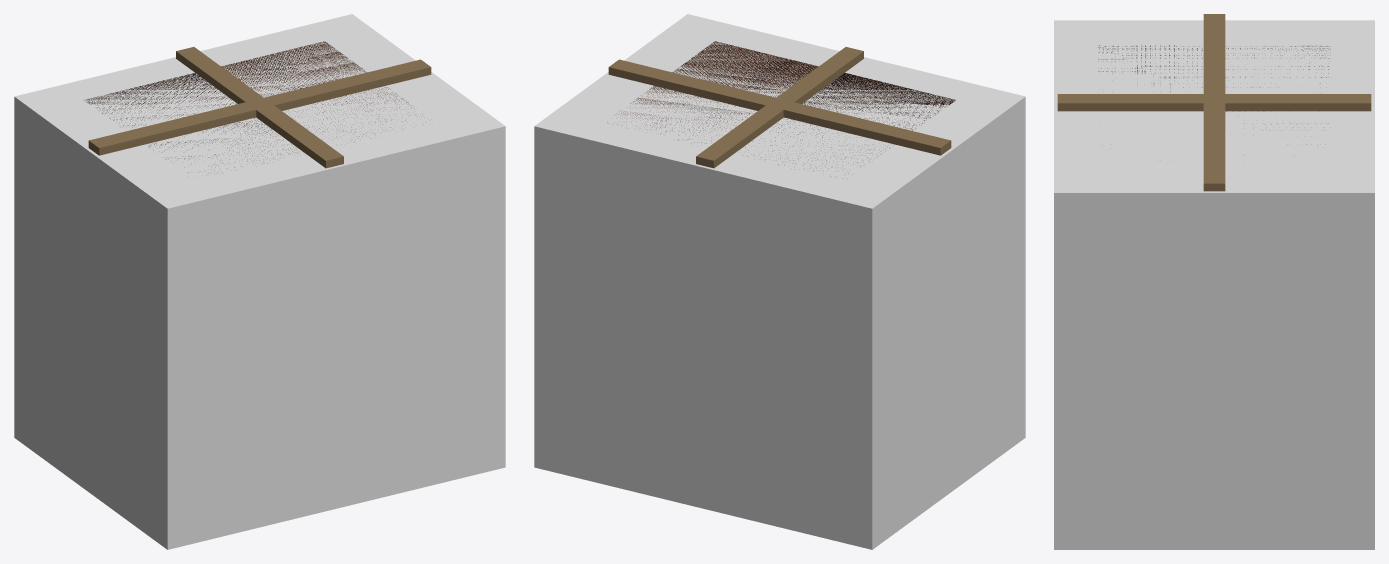
File: JP_Prop_LacquerBoxes_A.glb
3 renders of one model, left to right at view 1: azimuth 30°, elevation 25°; view 2: azimuth 150°, elevation 25°; view 3: azimuth 270°, elevation 25°, orthographic. The views are drawn at different scales.
Parts seen in each view (by area): view 1: COL_JP_Prop_LacquerBoxes_A, JP_Prop_LacquerBoxes_A; view 2: COL_JP_Prop_LacquerBoxes_A, JP_Prop_LacquerBoxes_A; view 3: COL_JP_Prop_LacquerBoxes_A, JP_Prop_LacquerBoxes_A.
Boxes of the visible parts, left/top/right/bottom form: COL_JP_Prop_LacquerBoxes_A: left=14, top=14, right=505, bottom=549; JP_Prop_LacquerBoxes_A: left=84, top=41, right=431, bottom=170; COL_JP_Prop_LacquerBoxes_A: left=534, top=14, right=1025, bottom=549; JP_Prop_LacquerBoxes_A: left=608, top=41, right=955, bottom=176; COL_JP_Prop_LacquerBoxes_A: left=1054, top=20, right=1374, bottom=549; JP_Prop_LacquerBoxes_A: left=1057, top=14, right=1371, bottom=191.
Bounding box in the file's own units: 0.56 × 0.552 × 0.44.
2 materials, 2 textured.
